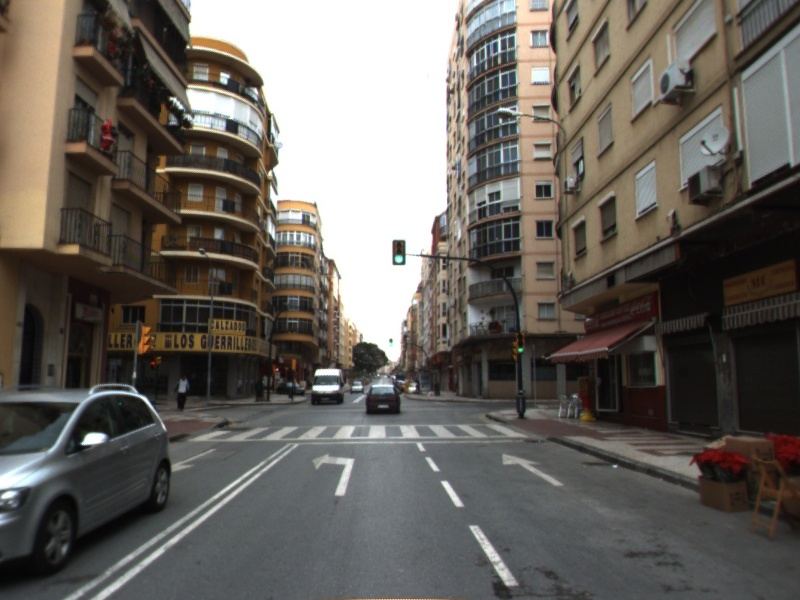LEFT: (310, 452, 356, 497)
STRAIGHT: (501, 452, 565, 487)
